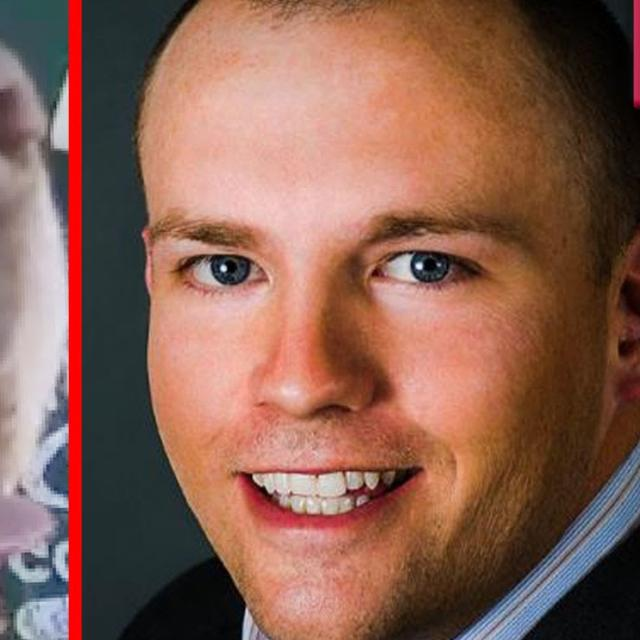Normal: (140, 2, 605, 639)
